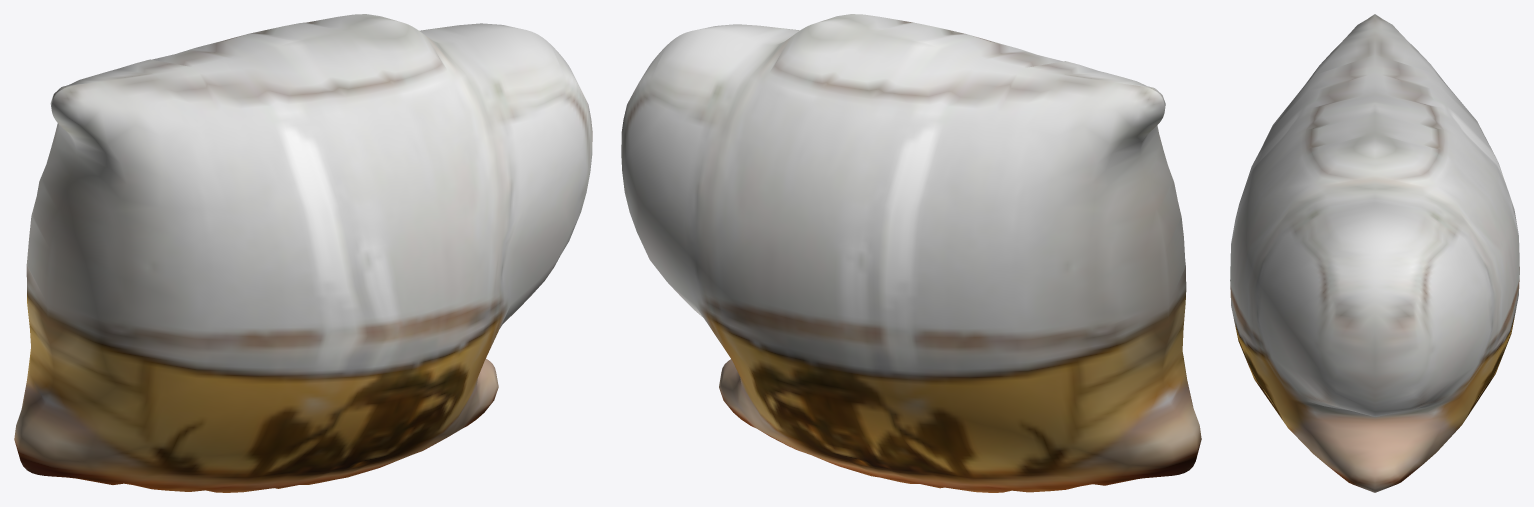
The model's file is teacup.glb.
3 views of the same model, side by side, from view 1: azimuth 30°, elevation 25°; view 2: azimuth 150°, elevation 25°; view 3: azimuth 270°, elevation 25° (orthographic). The views are drawn at different scales.
Visible parts, largest first — view 1: 660f3d18-ebd8-4d61-b5e0-760351afe2cb; view 2: 660f3d18-ebd8-4d61-b5e0-760351afe2cb; view 3: 660f3d18-ebd8-4d61-b5e0-760351afe2cb.
Boxes of the visible parts, x1,y1,x2,y2 form: 660f3d18-ebd8-4d61-b5e0-760351afe2cb: (14,14,592,492); 660f3d18-ebd8-4d61-b5e0-760351afe2cb: (621,14,1201,492); 660f3d18-ebd8-4d61-b5e0-760351afe2cb: (1230,14,1519,492).
Size of the model in its own units: 1.31 by 0.9776 by 0.7601.
1 material, 1 textured.
